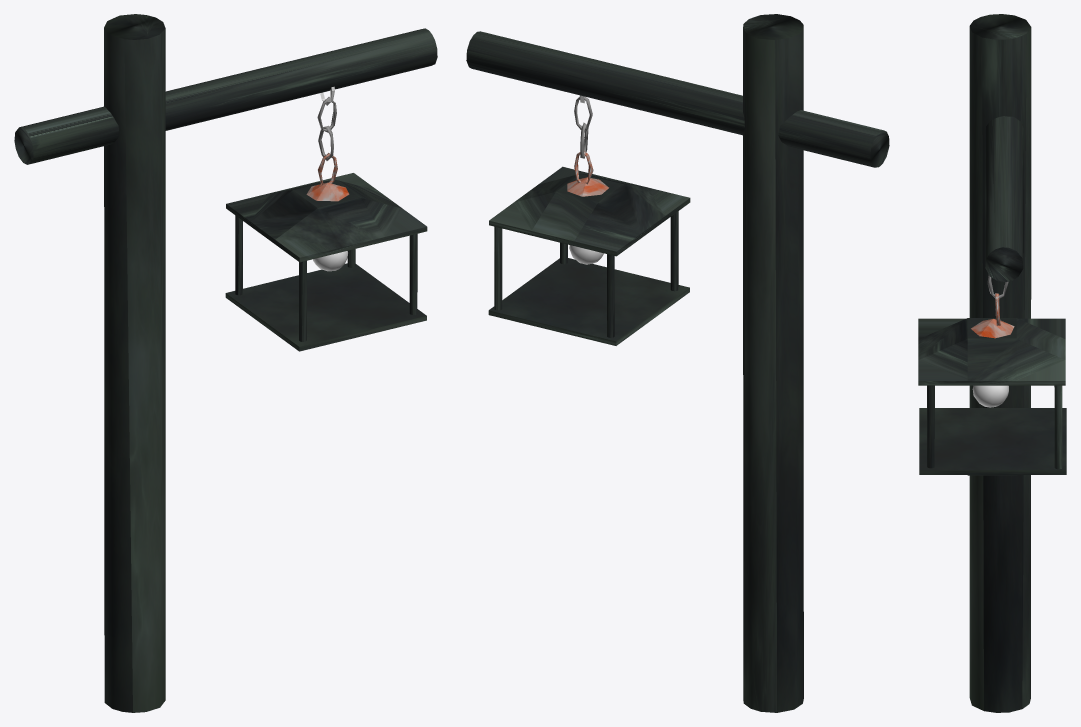
The model's file is small_light_post.fbx.
The picture shows the model from 3 angles, left to right: view 1: azimuth 30°, elevation 25°; view 2: azimuth 150°, elevation 25°; view 3: azimuth 270°, elevation 25°; orthographic projection.
Parts seen in each view (by area): view 1: Cylinder, Cylinder.004, Cylinder.001, Cone; view 2: Cylinder, Cylinder.004, Cylinder.001, Cone; view 3: Cylinder, Cylinder.004, Cylinder.001, Cone, Sphere.
Part boxes in pixels (box(x1,y1,x2,y2)): Cylinder: box(104, 14, 165, 712); Cylinder.004: box(225, 173, 427, 351); Cylinder.001: box(14, 28, 437, 164); Cone: box(306, 97, 349, 201); Cylinder: box(743, 14, 803, 712); Cylinder.004: box(488, 166, 690, 345); Cylinder.001: box(466, 31, 889, 167); Cone: box(567, 96, 608, 196); Cylinder: box(969, 14, 1031, 712); Cylinder.004: box(918, 318, 1066, 475); Cylinder.001: box(985, 116, 1023, 282); Cone: box(971, 274, 1014, 338); Sphere: box(972, 385, 1008, 407).
Bounding box in the file's own units: 282 × 449 × 89.49.
